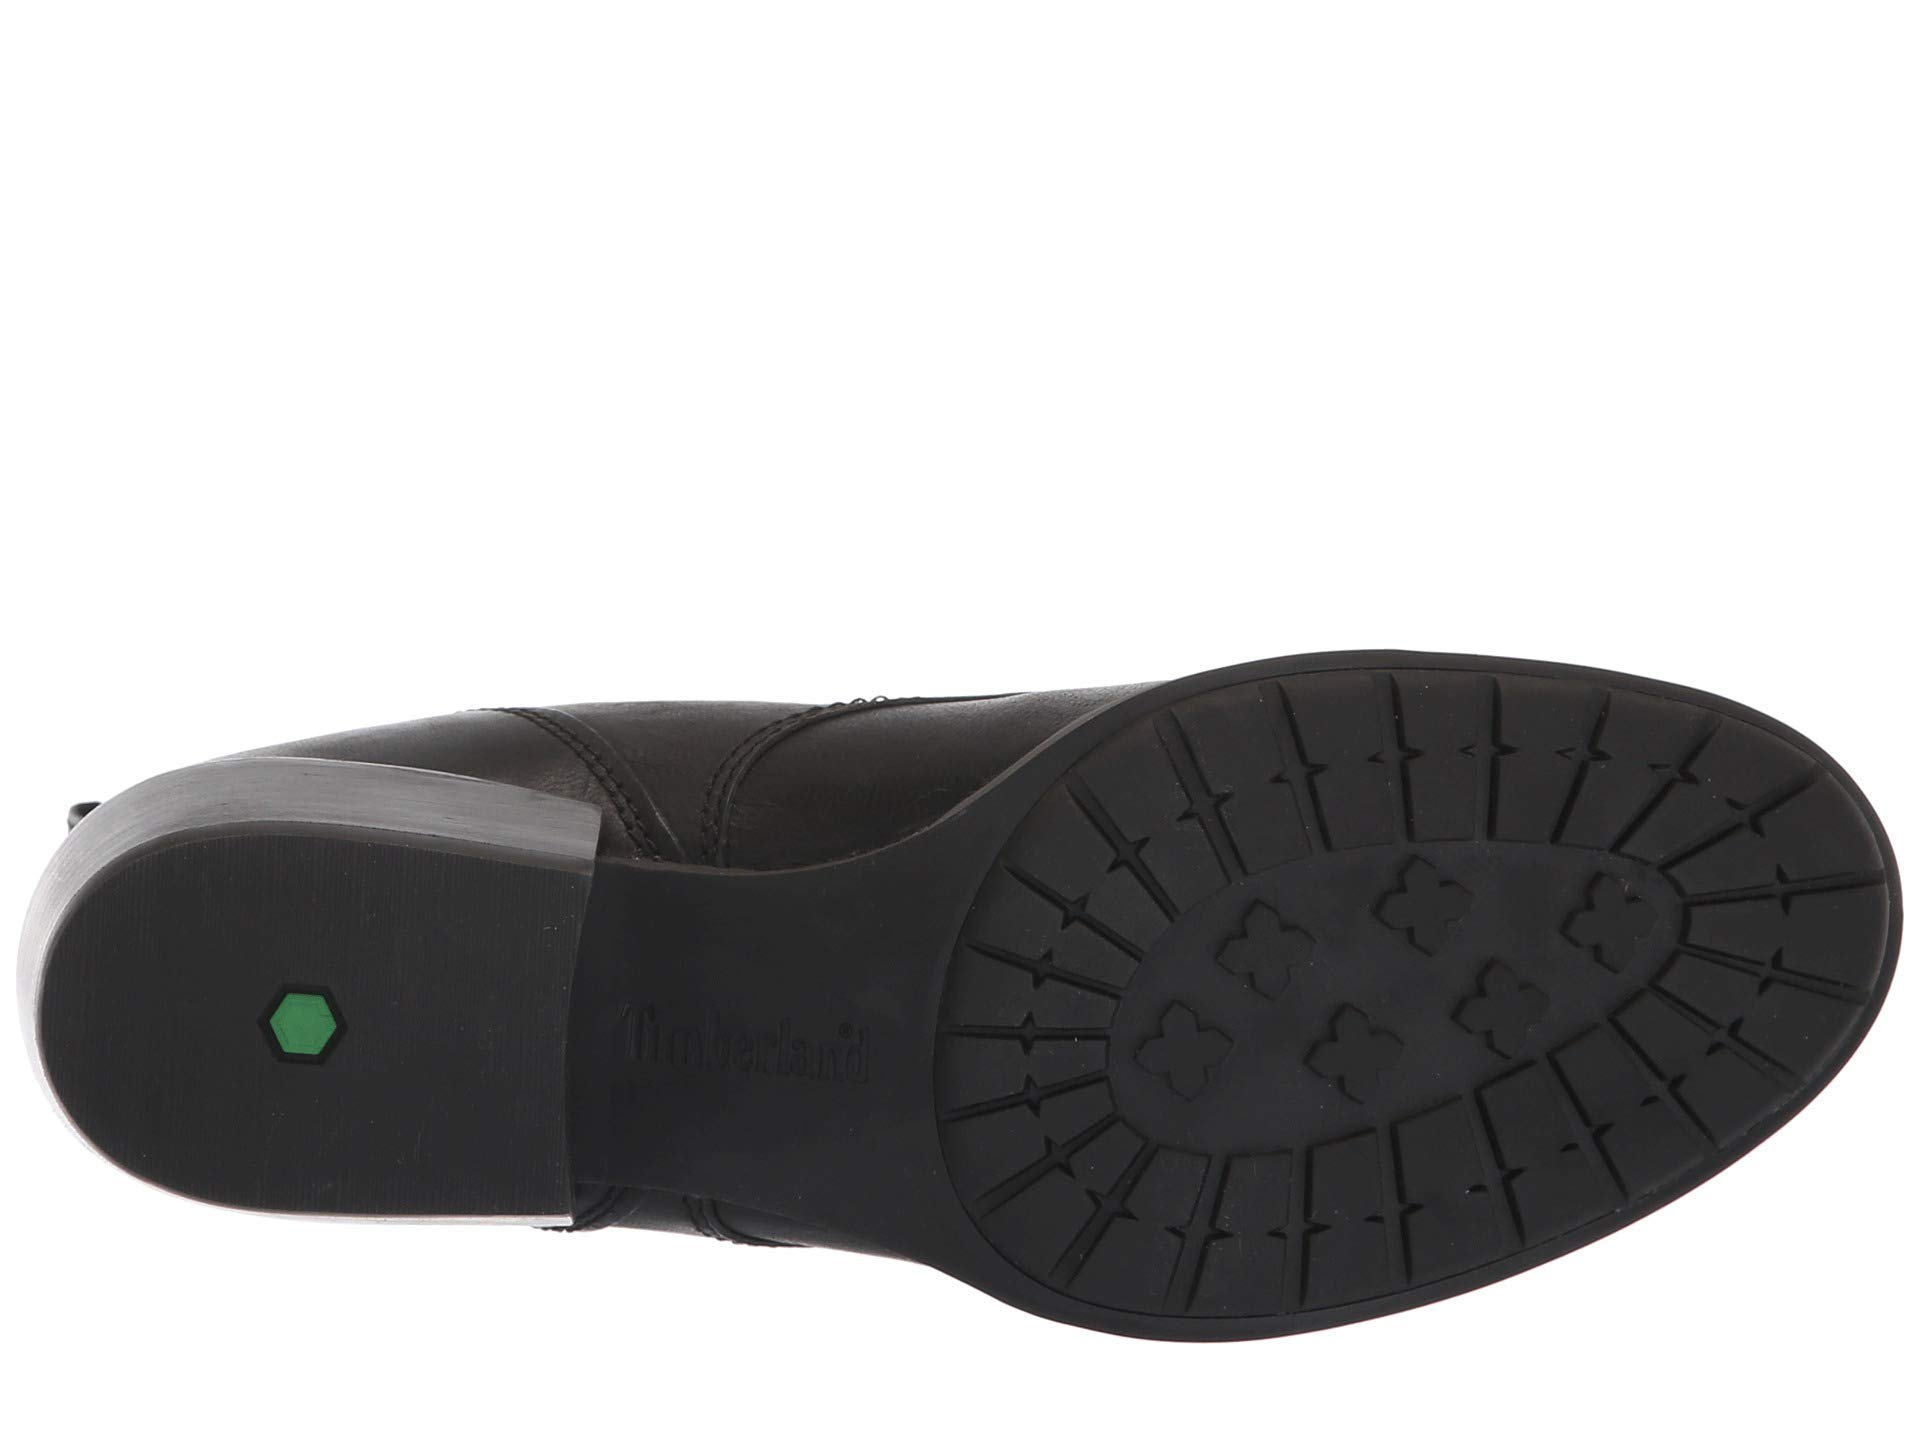bowtie: (1157, 867, 1596, 1118), (1274, 663, 1655, 856), (1051, 1128, 1411, 1328)
exclude: (568, 846, 940, 1274)
polygon: (237, 942, 411, 1133)
star: (1157, 867, 1596, 1118)
